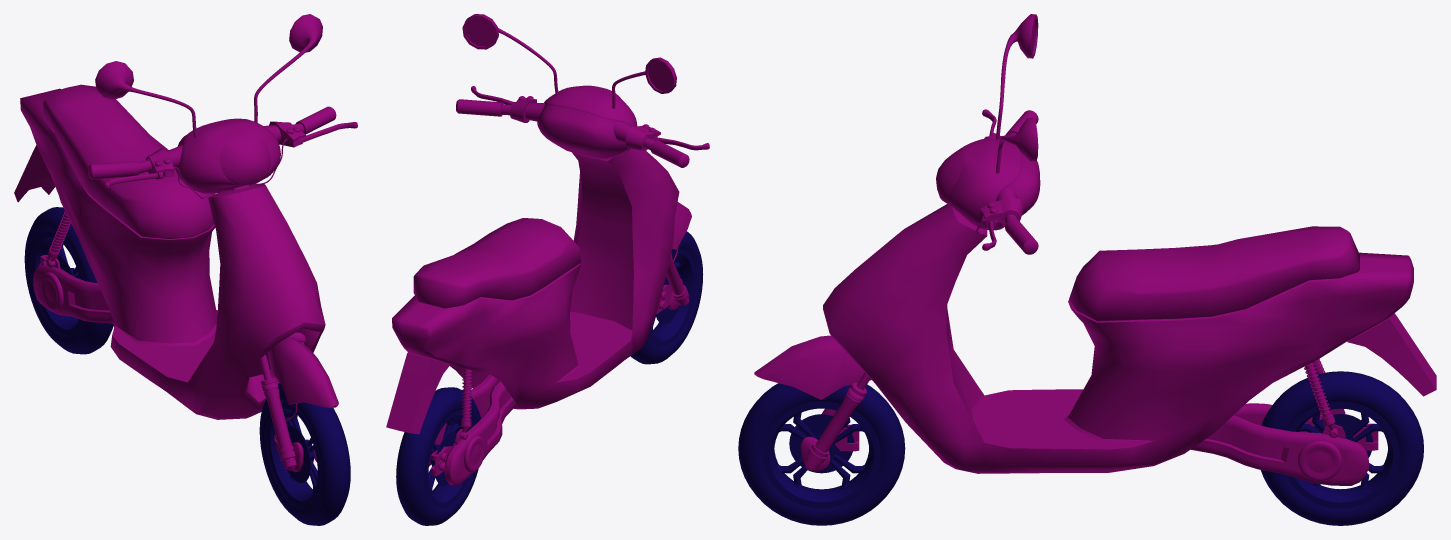
Rendered from Motorbike_Piggo_Electric.fbx.
The picture shows the model from 3 angles, left to right: view 1: azimuth 30°, elevation 25°; view 2: azimuth 150°, elevation 25°; view 3: azimuth 270°, elevation 25°; orthographic projection. The views are drawn at different scales.
Visible parts, largest first — view 1: Piggo_LP, HandlesGood!, Front_Wheel, Rear_Wheel, RearSuspension, FrontSuspensionFork.; view 2: Piggo_LP, HandlesGood!, Rear_Wheel, RearSuspension, Front_Wheel, FrontSuspensionFork.; view 3: Piggo_LP, Front_Wheel, HandlesGood!, Rear_Wheel, RearSuspension, FrontSuspensionFork..
Boxes of the visible parts, x1=… form: Piggo_LP: x1=14, y1=84, x2=325, y2=419; HandlesGood!: x1=88, y1=14, x2=357, y2=407; Front_Wheel: x1=259, y1=383, x2=350, y2=525; Rear_Wheel: x1=24, y1=207, x2=113, y2=354; RearSuspension: x1=33, y1=211, x2=113, y2=323; FrontSuspensionFork.: x1=261, y1=377, x2=316, y2=472; Piggo_LP: x1=386, y1=148, x2=679, y2=434; HandlesGood!: x1=456, y1=14, x2=709, y2=249; Rear_Wheel: x1=396, y1=387, x2=480, y2=525; RearSuspension: x1=429, y1=368, x2=516, y2=485; Front_Wheel: x1=630, y1=231, x2=703, y2=364; FrontSuspensionFork.: x1=656, y1=247, x2=689, y2=313; Piggo_LP: x1=823, y1=204, x2=1436, y2=473; Front_Wheel: x1=738, y1=383, x2=905, y2=525; HandlesGood!: x1=754, y1=14, x2=1040, y2=399; Rear_Wheel: x1=1261, y1=371, x2=1423, y2=525; RearSuspension: x1=1191, y1=359, x2=1378, y2=485; FrontSuspensionFork.: x1=800, y1=382, x2=867, y2=471.
Size of the model in its own units: 1.55 by 2.41 by 3.35.
